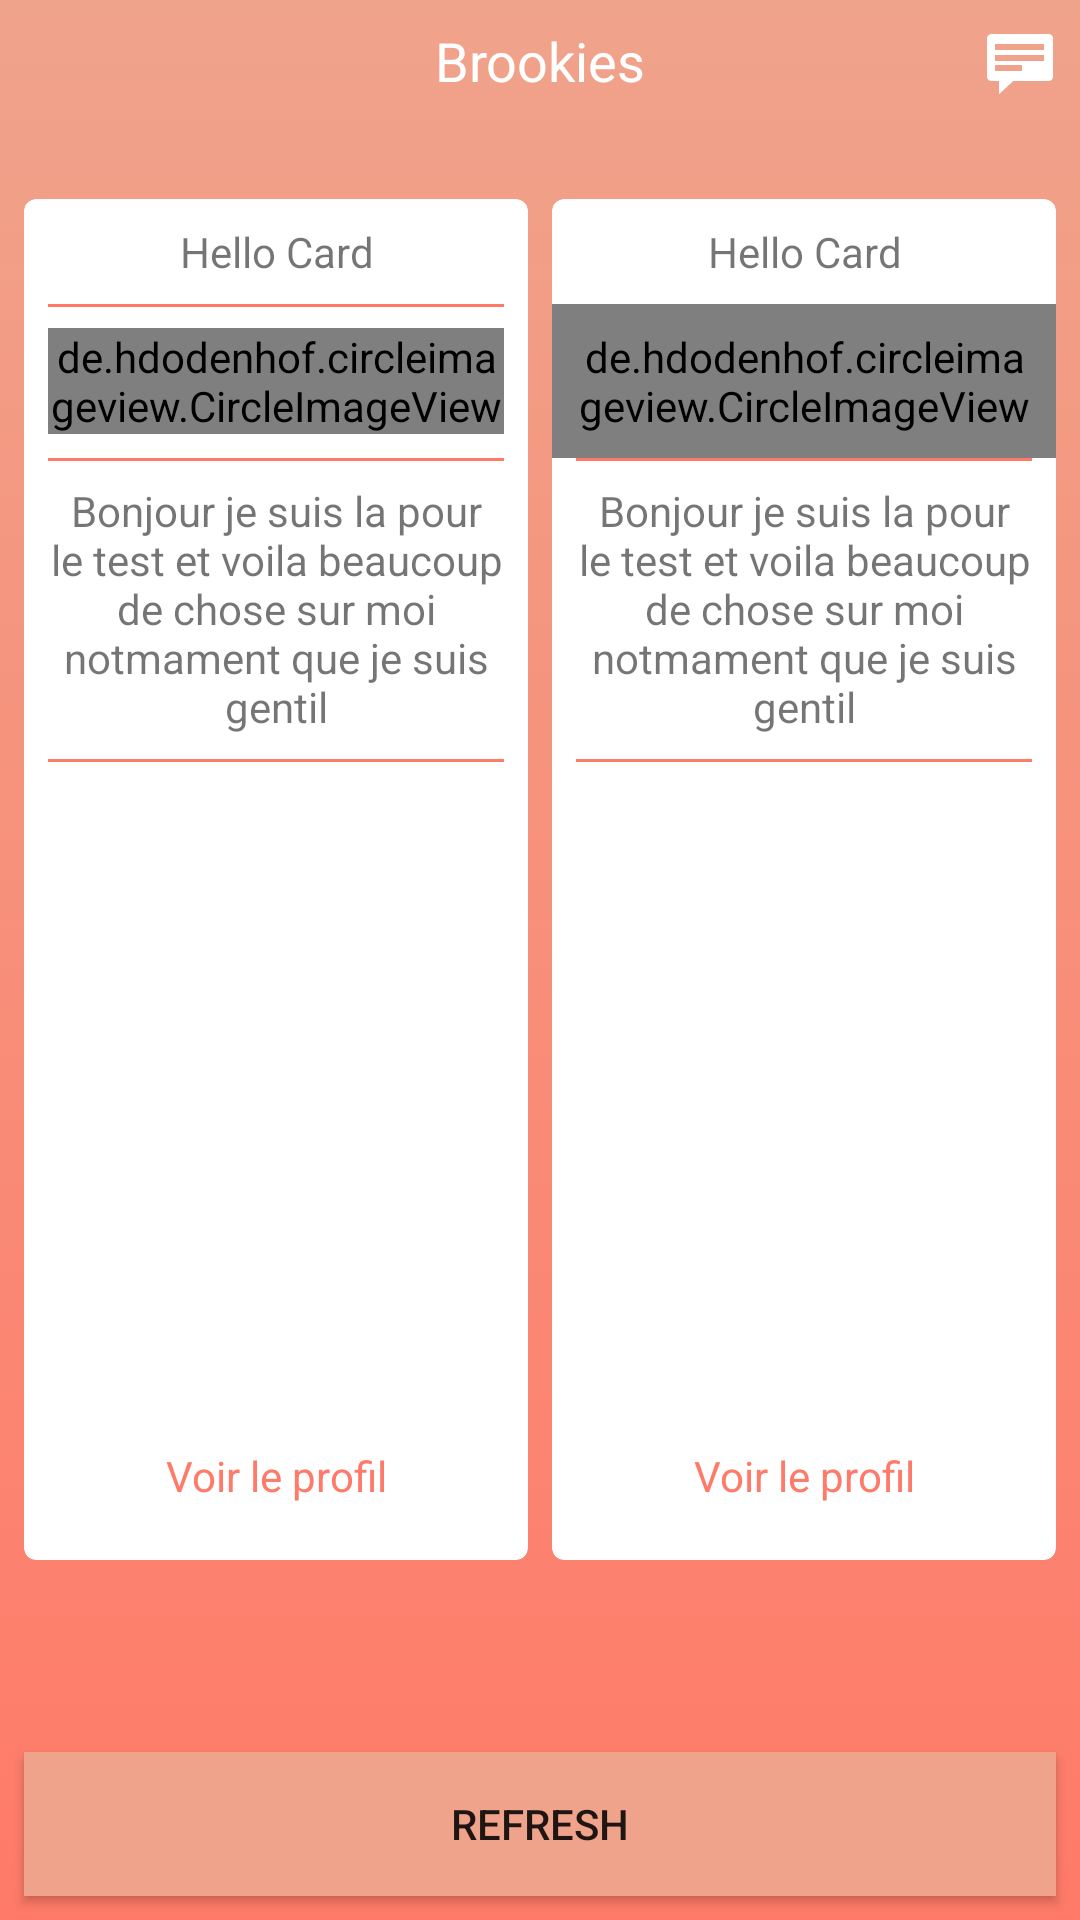

Where to tap for icons on this 1080*1920 app screen, as (x,y):
chat: (1020,64)
